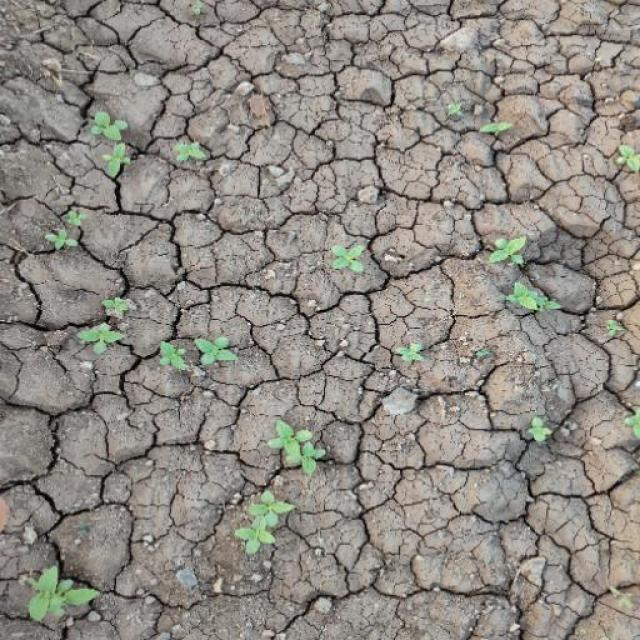crop: (20, 560, 102, 625), (264, 420, 332, 480), (71, 319, 131, 360), (502, 279, 562, 320), (40, 210, 86, 259), (320, 241, 382, 275), (244, 485, 294, 527), (485, 231, 534, 269), (230, 519, 274, 560), (150, 336, 191, 375), (86, 111, 134, 142), (99, 286, 142, 320), (167, 129, 205, 165), (195, 334, 237, 366), (610, 134, 639, 178), (478, 114, 518, 145), (524, 408, 552, 450), (96, 144, 132, 176), (392, 338, 428, 367)
